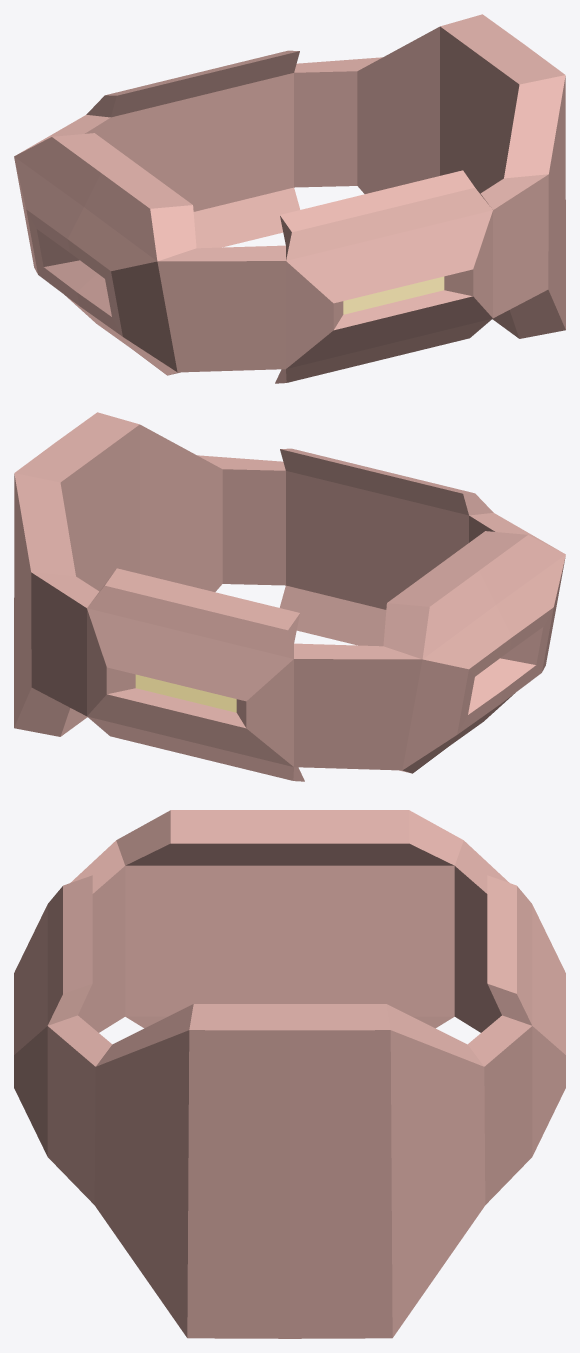
File: cb_upper_waist_2.gltf
3 views of the same model, one above another, from view 1: azimuth 30°, elevation 25°; view 2: azimuth 150°, elevation 25°; view 3: azimuth 270°, elevation 25° (orthographic). The views are drawn at different scales.
Parts seen in each view (by area): view 1: Plane.001; view 2: Plane.001; view 3: Plane.001.
Boxes of the visible parts, bbox=[...] form: Plane.001: bbox=[14, 14, 565, 383]; Plane.001: bbox=[14, 412, 565, 781]; Plane.001: bbox=[14, 810, 565, 1338].
Bounding box in the file's own units: 2.04 × 1.09 × 1.76.
